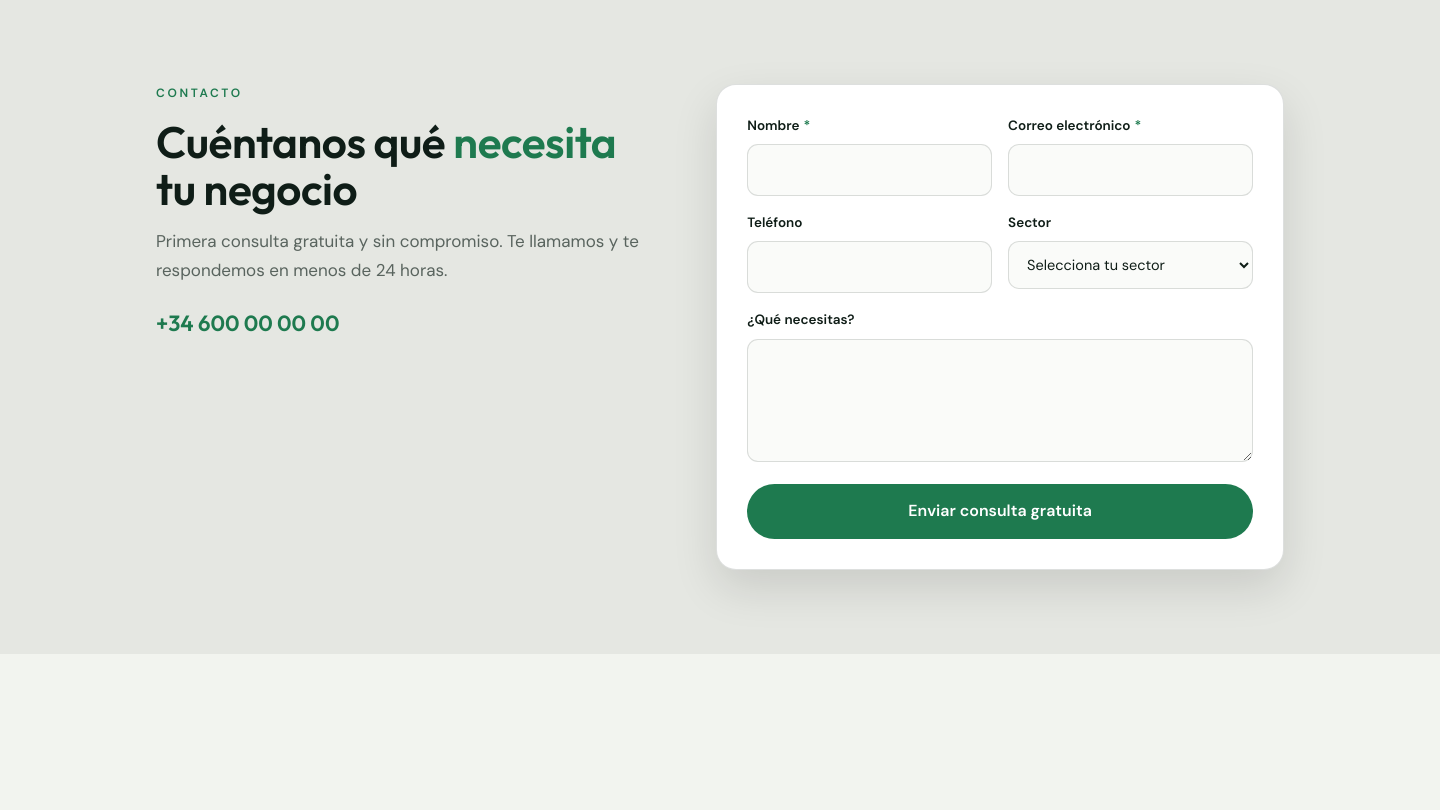
it: Contacto (comportamiento) › @s7 si el envío falla, muestra error y conserva lo escrito
Type "Ana" into the field labelled "Nombre*". click: (870,170)
box: [747,144,992,196]
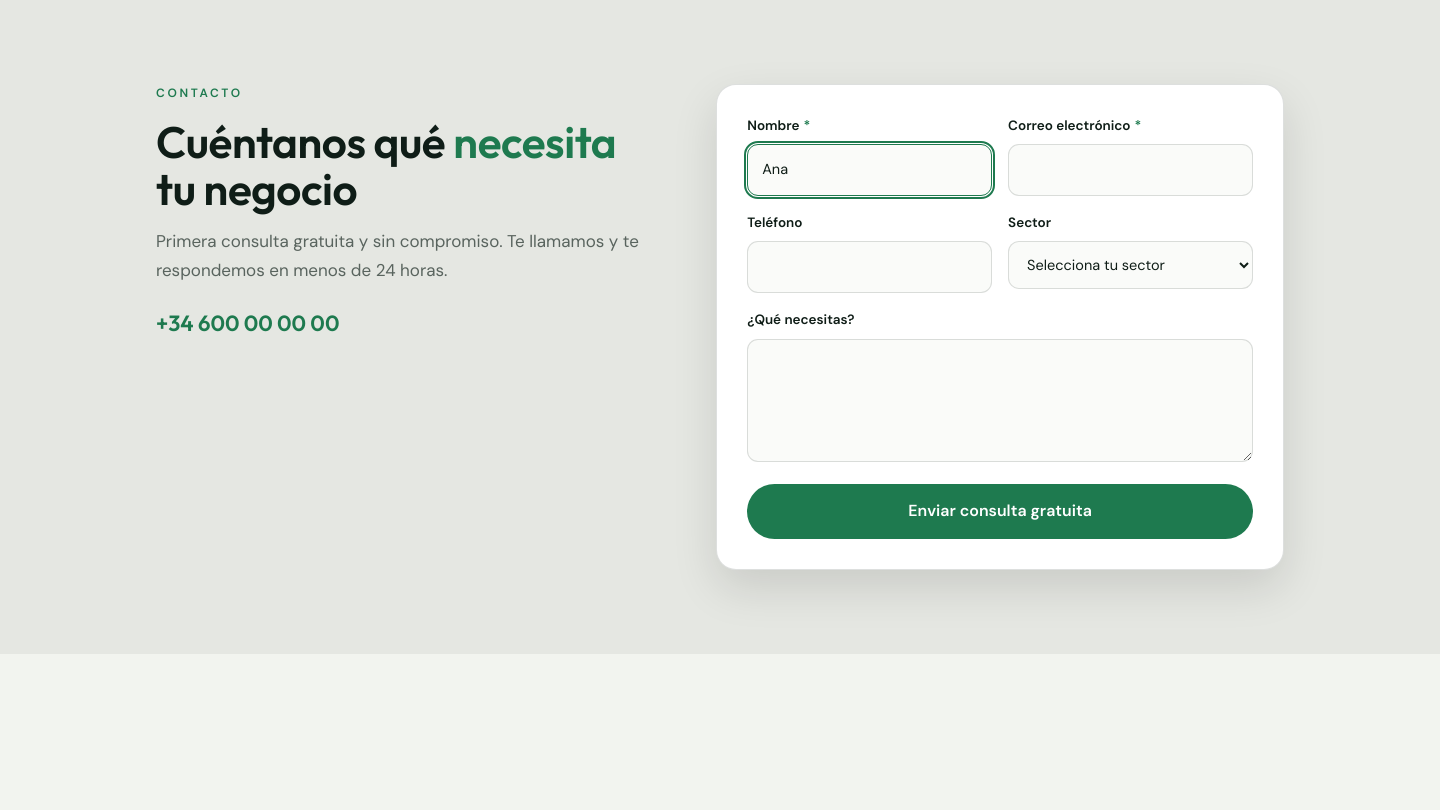
Type "ana@cenit.dev" into the field labelled "Correo electrónico*". click: (1131,170)
box: [1008,144,1253,196]
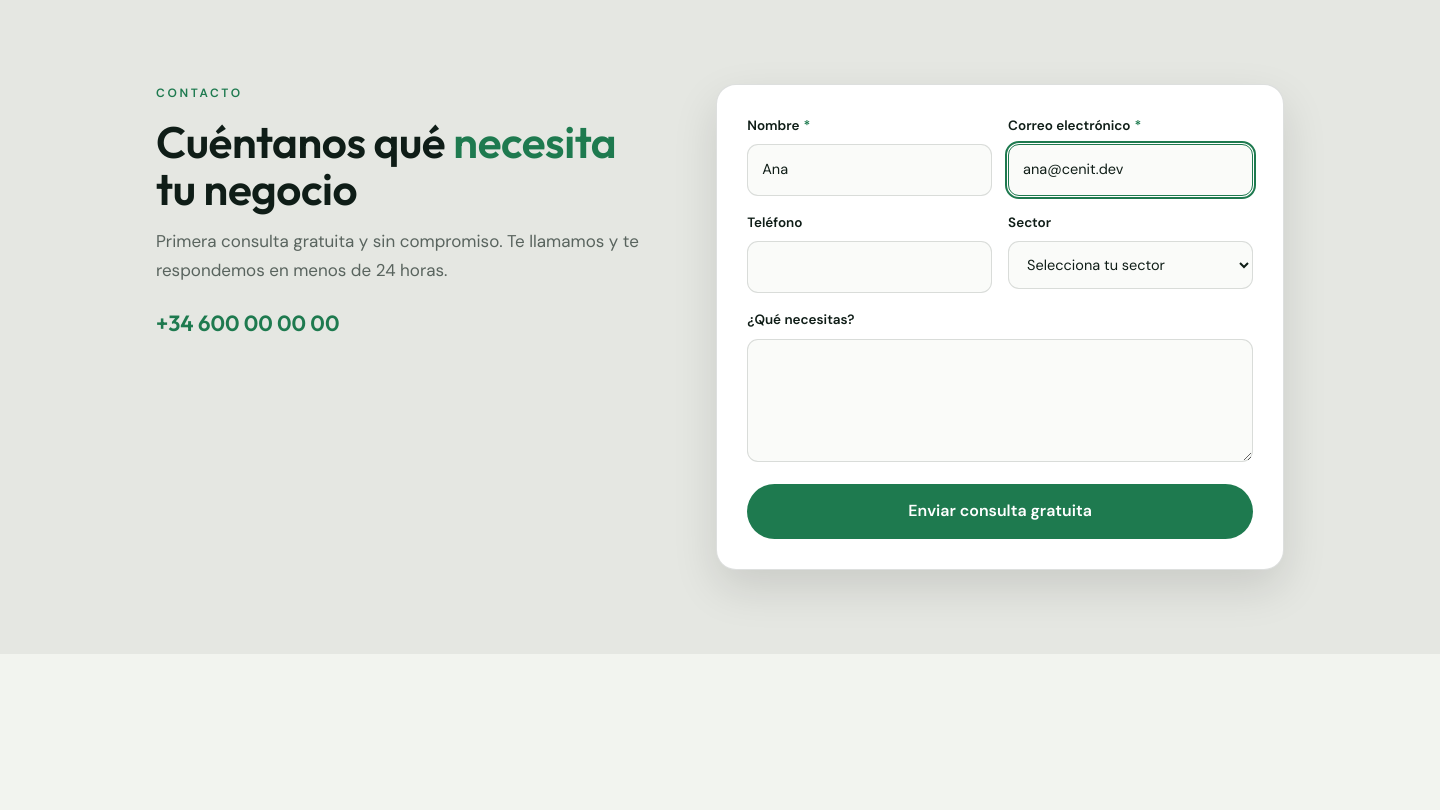
Type "Quiero una web" into the text box labelled "¿Qué necesitas?". click: (1000,400)
box: [747,339,1253,462]
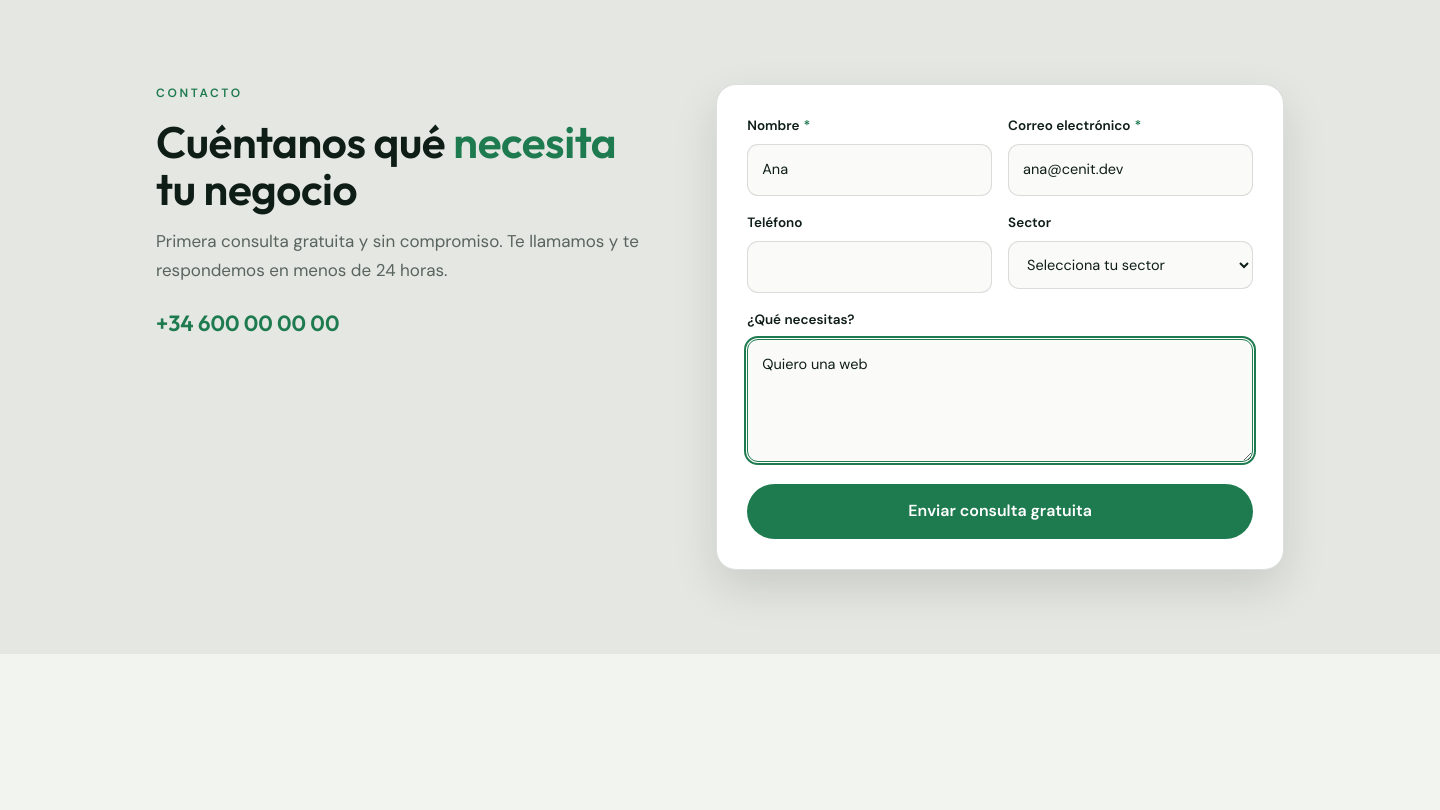
Click the button "Enviar consulta gratuita". click: (1000,512)
box: [747,484,1253,539]
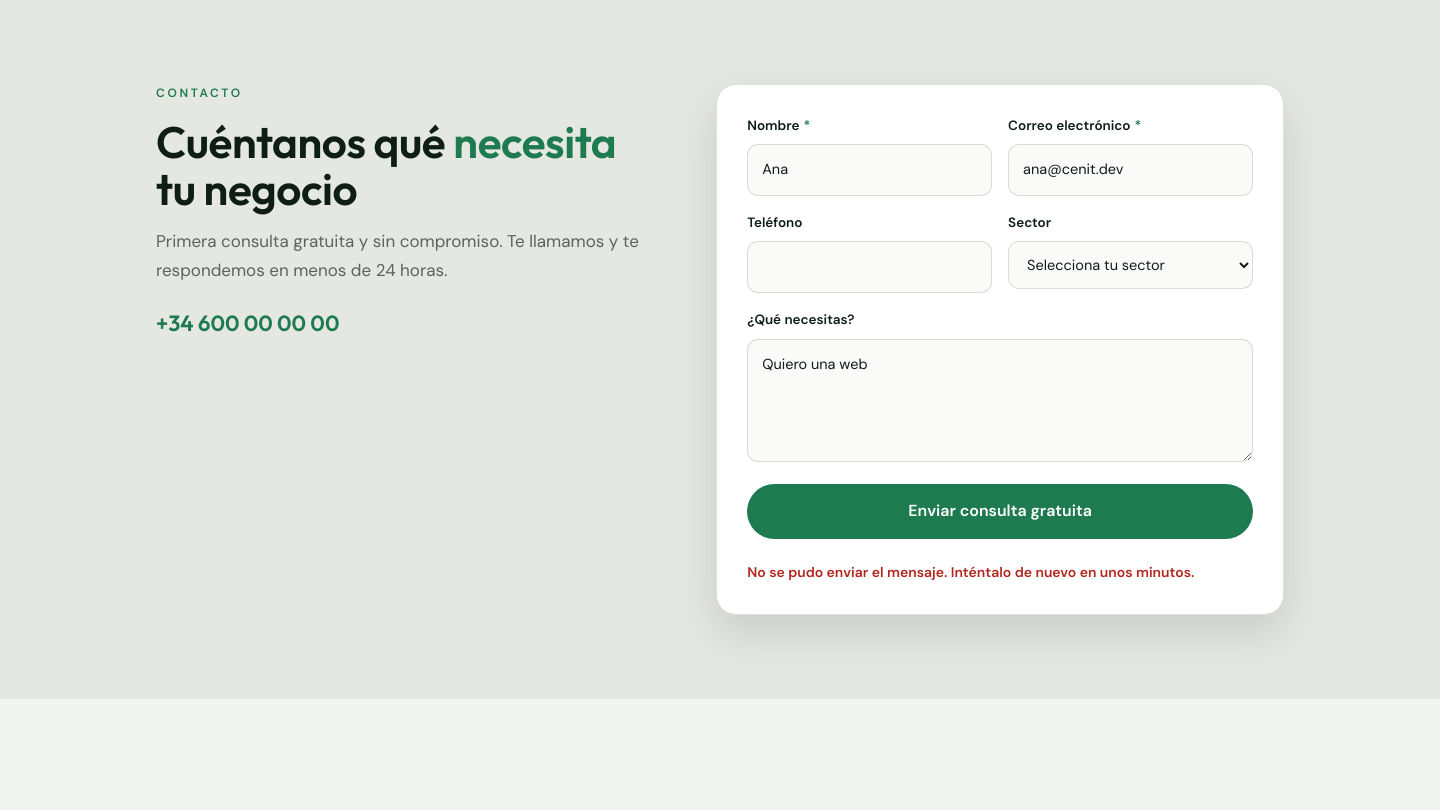
Now the message "No se pudo enviar el mensaje. Inténtalo de nuevo en unos minutos." is shown, box [747,561,1253,584]
